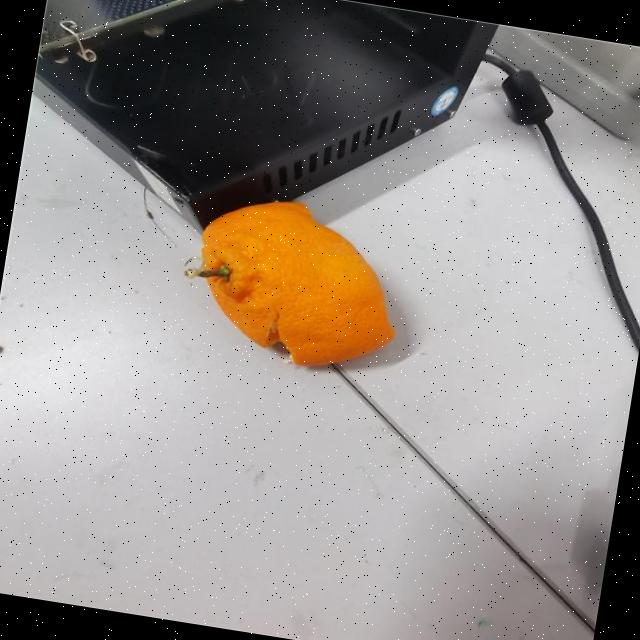orange-peel: (175, 184, 414, 380)
